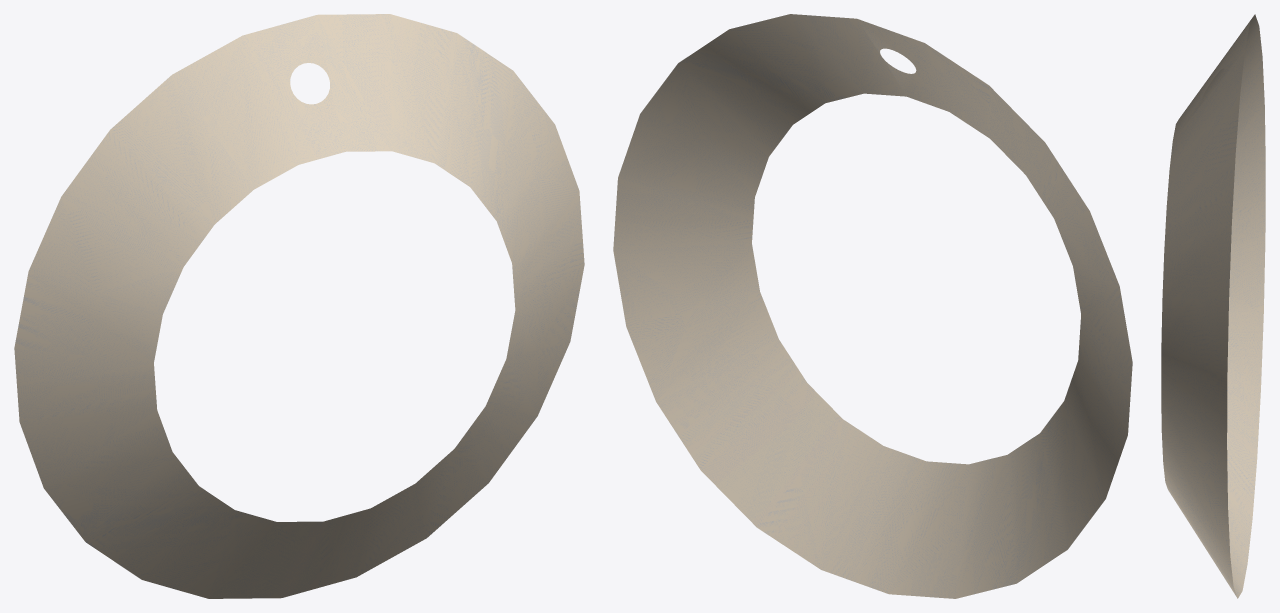
Rendered from original-71.obj.
3 views of the same model, side by side, from view 1: azimuth 30°, elevation 25°; view 2: azimuth 150°, elevation 25°; view 3: azimuth 270°, elevation 25° (orthographic). The views are drawn at different scales.
Visible parts, largest first — view 1: 3dw.47c68395a5775e10d9deb3f829cc2475/Model/Component_18_1/Compon; view 2: 3dw.47c68395a5775e10d9deb3f829cc2475/Model/Component_18_1/Compon; view 3: 3dw.47c68395a5775e10d9deb3f829cc2475/Model/Component_18_1/Compon.
Part boxes in pixels (x1,y1,x2,y2): 3dw.47c68395a5775e10d9deb3f829cc2475/Model/Component_18_1/Compon: [14, 14, 584, 598]; 3dw.47c68395a5775e10d9deb3f829cc2475/Model/Component_18_1/Compon: [613, 14, 1132, 598]; 3dw.47c68395a5775e10d9deb3f829cc2475/Model/Component_18_1/Compon: [1161, 14, 1265, 598].
Bounding box in the file's own units: 0.0867 × 0.0869 × 0.0156.
